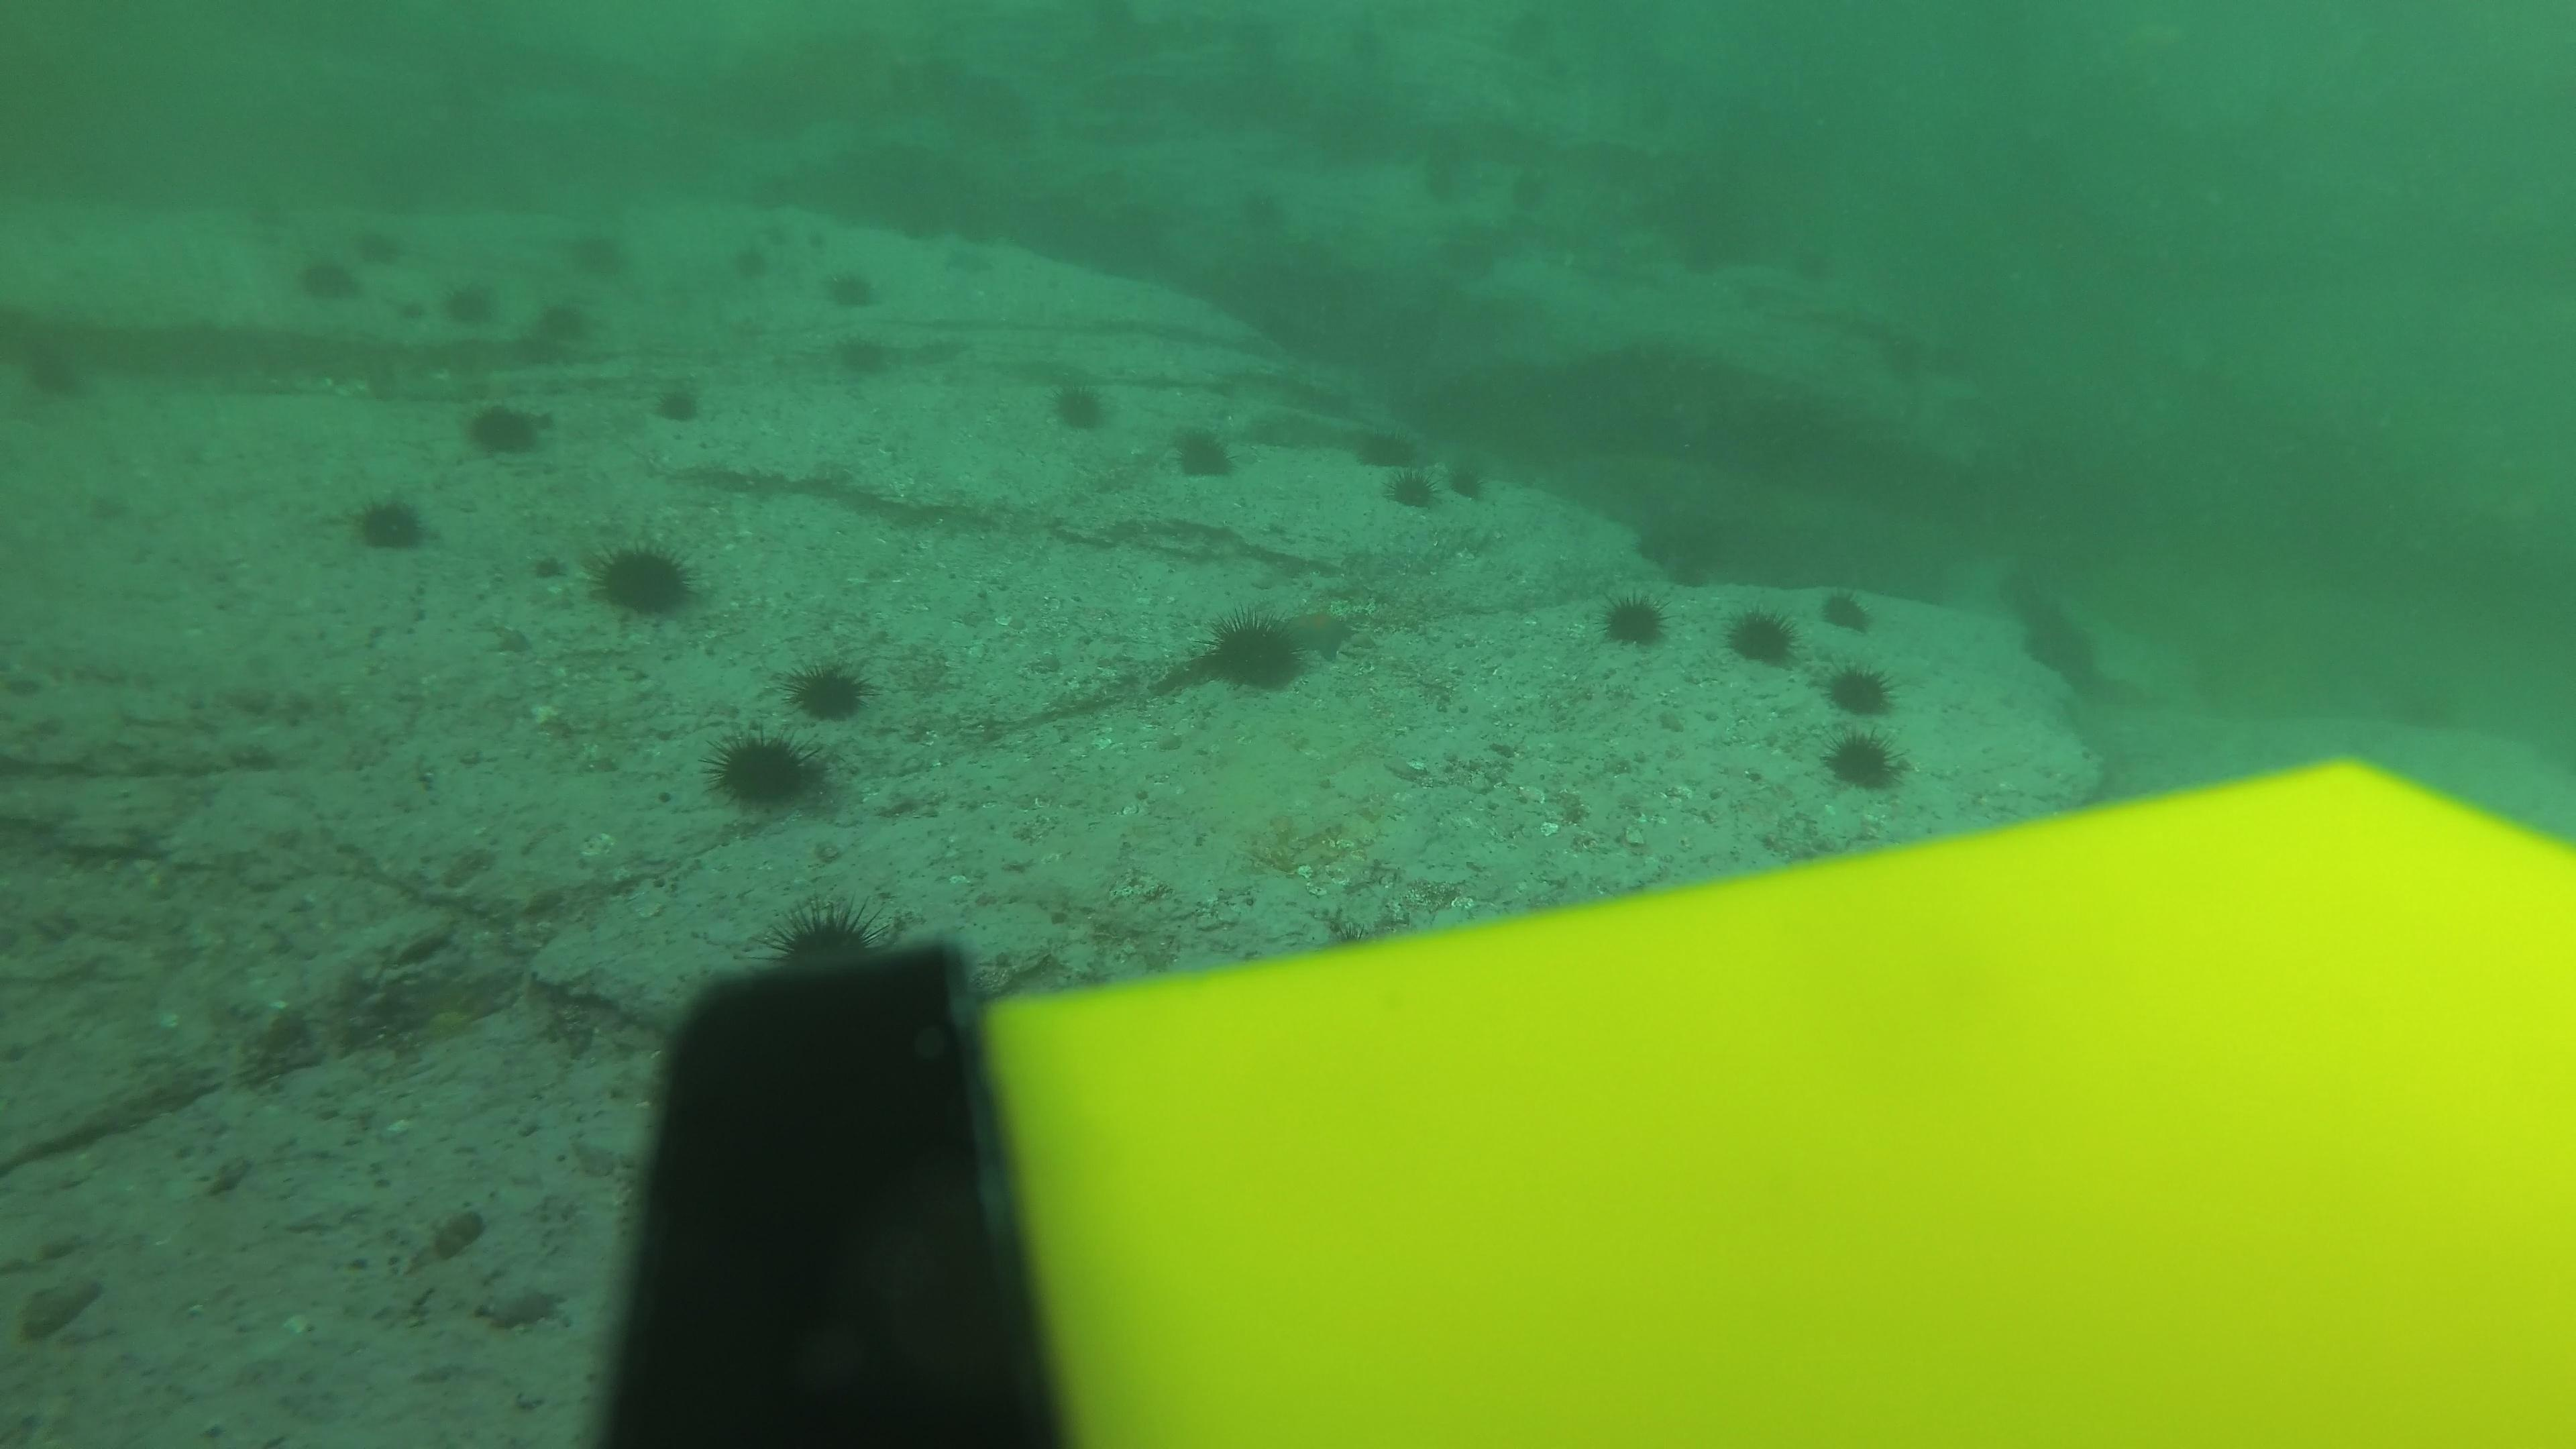echinus: (1189, 603, 1318, 701), (704, 725, 833, 821), (761, 899, 893, 984), (586, 534, 702, 628), (784, 651, 876, 727), (345, 487, 435, 561), (460, 395, 552, 464), (1819, 727, 1907, 798), (1592, 586, 1674, 656), (1164, 418, 1246, 488), (1721, 602, 1801, 672), (1040, 370, 1116, 439), (288, 244, 366, 310), (531, 287, 607, 352), (557, 216, 633, 281), (1821, 658, 1898, 722), (341, 214, 418, 278), (1352, 419, 1421, 479), (437, 274, 502, 333), (821, 260, 883, 313), (649, 375, 708, 430), (1819, 584, 1877, 639), (1384, 467, 1437, 515), (1408, 157, 1461, 205), (1782, 232, 1835, 280), (1665, 235, 1718, 283), (1633, 524, 1684, 571), (1504, 170, 1555, 218), (1341, 23, 1394, 69), (1440, 460, 1491, 506), (1656, 545, 1707, 591), (1237, 191, 1288, 237), (1884, 334, 1936, 380), (727, 241, 775, 288), (835, 326, 883, 373), (897, 219, 936, 248), (796, 225, 835, 253)
starfish: (1276, 602, 1361, 667), (947, 248, 1000, 278)
